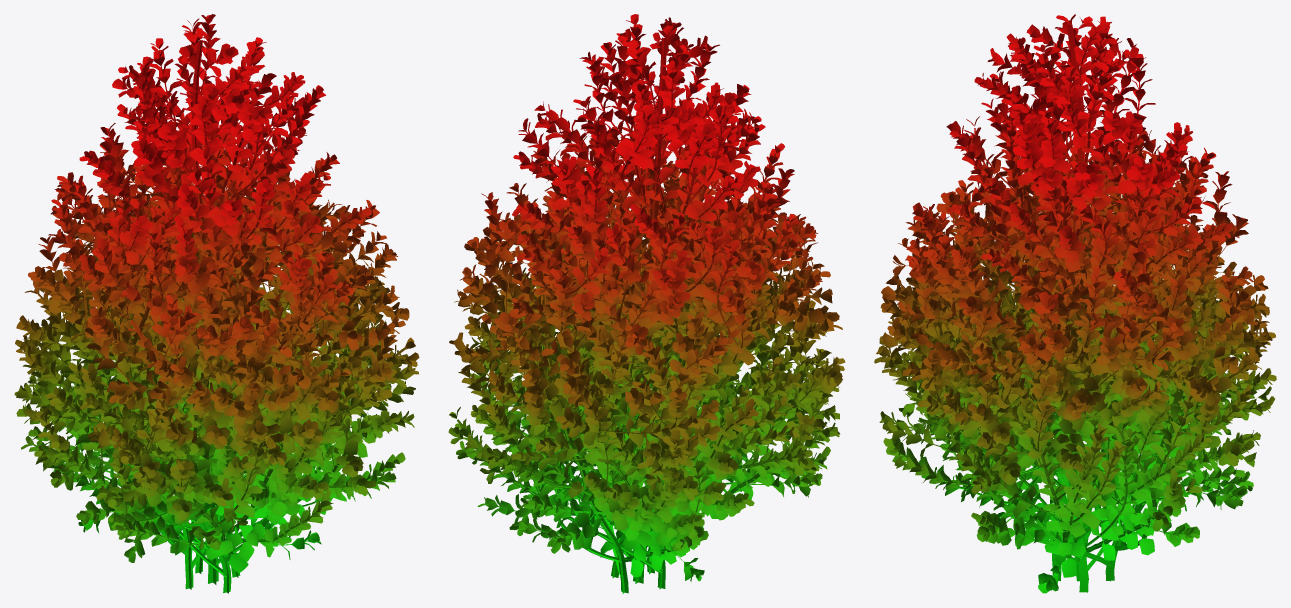
The model's file is Var5_LOD2.fbx.
3 renders of one model, left to right at view 1: azimuth 30°, elevation 25°; view 2: azimuth 150°, elevation 25°; view 3: azimuth 270°, elevation 25°, orthographic.
Visible parts, largest first — view 1: _swyb_Var5_LOD2; view 2: _swyb_Var5_LOD2; view 3: _swyb_Var5_LOD2.
Part boxes in pixels (x1,y1,x2,y2): _swyb_Var5_LOD2: (14,14,419,593); _swyb_Var5_LOD2: (448,14,845,593); _swyb_Var5_LOD2: (874,14,1276,593).
Size of the model in its own units: 80.68 by 123 by 80.06.
